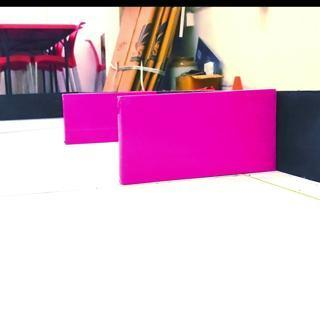xparking: (118, 96, 274, 184), (65, 92, 116, 145)
